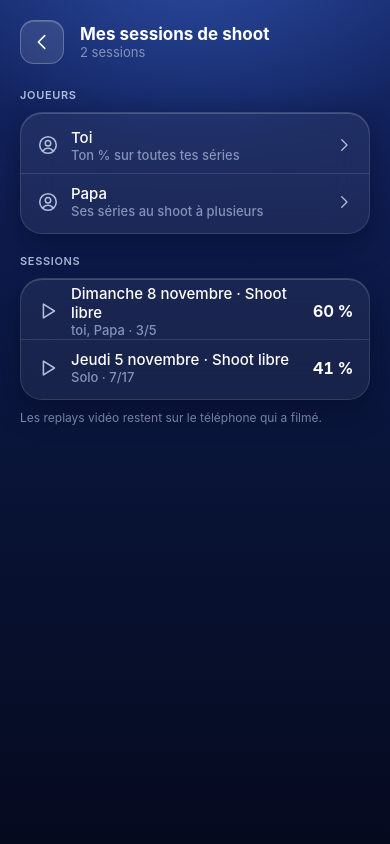
retrouver ses shoots après les avoir enregistrés › l'historique liste les sessions (sans les vides) et mène à l'analyse
The image size is (390, 844).
Expected: the text "Mes sessions de shoot" is shown, [80,24,269,44]
Expected: the text "2 sessions" is shown, [80,44,145,60]
Click the text "toi, Papa · 3/5". click: [114, 330]
box: [71,322,157,338]
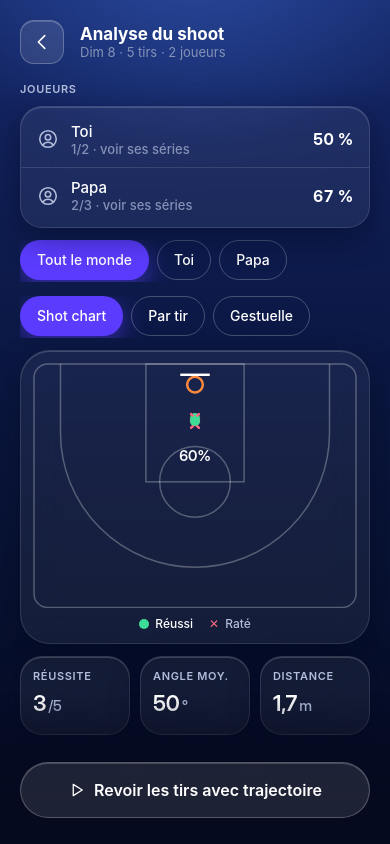
Now the text "Analyse du shoot" is shown, box [80,24,224,44]
